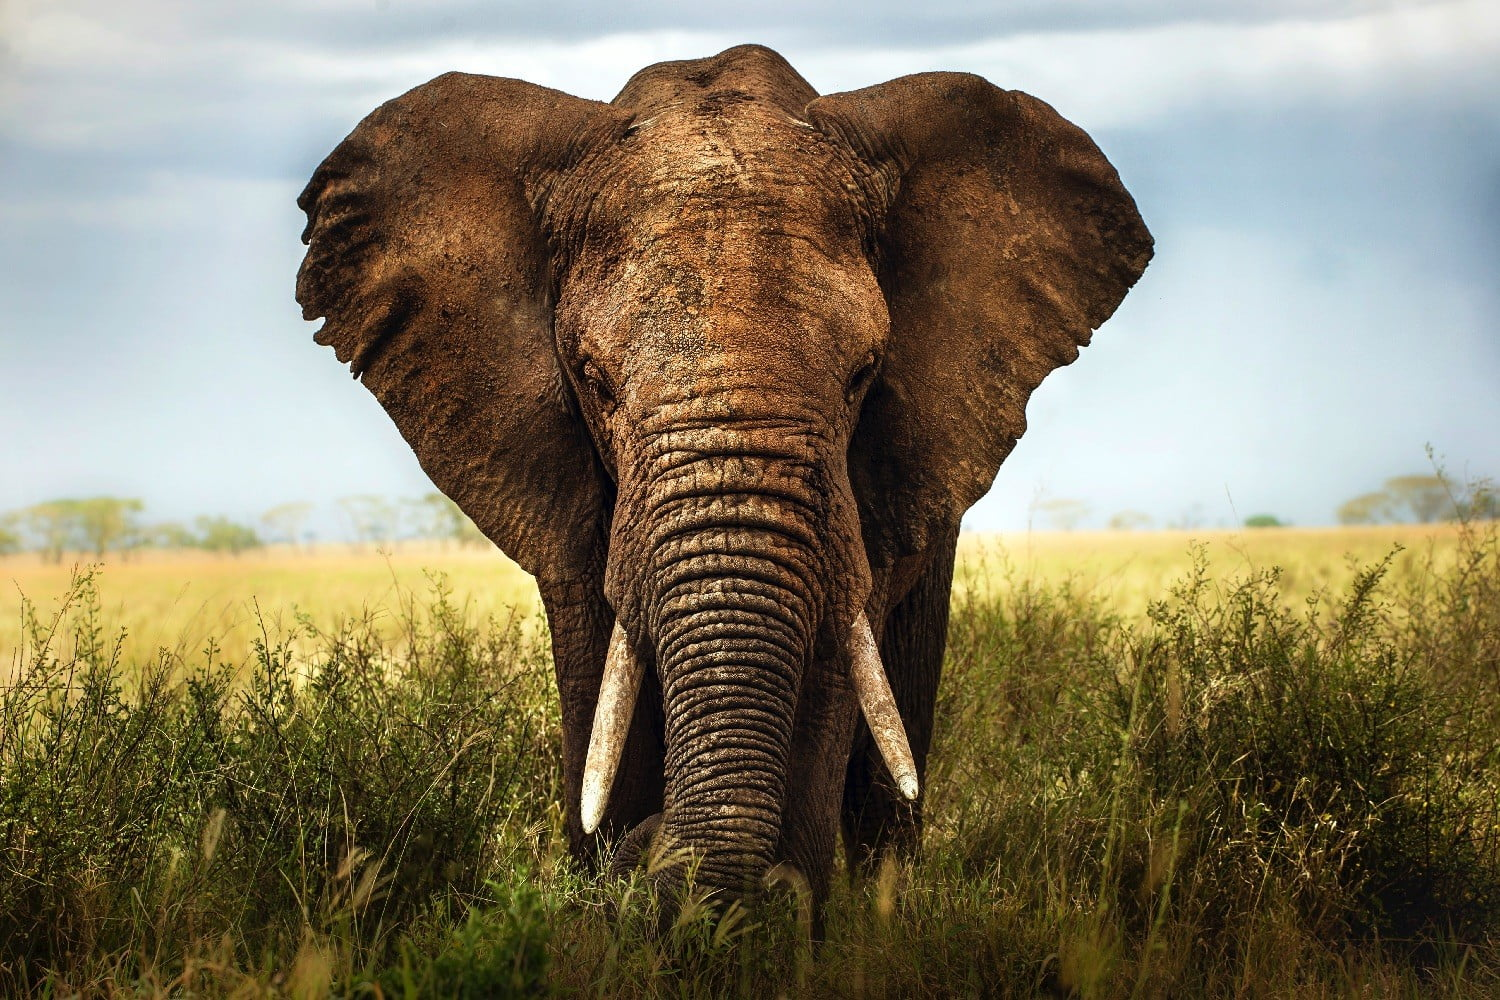elephant: (288, 37, 1177, 911)
